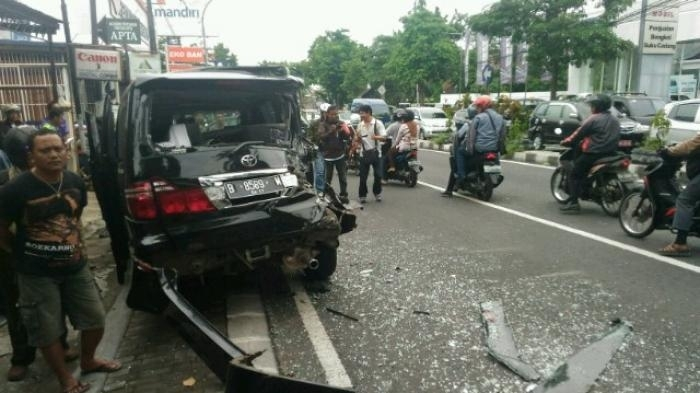plate: (227, 177, 288, 198)
